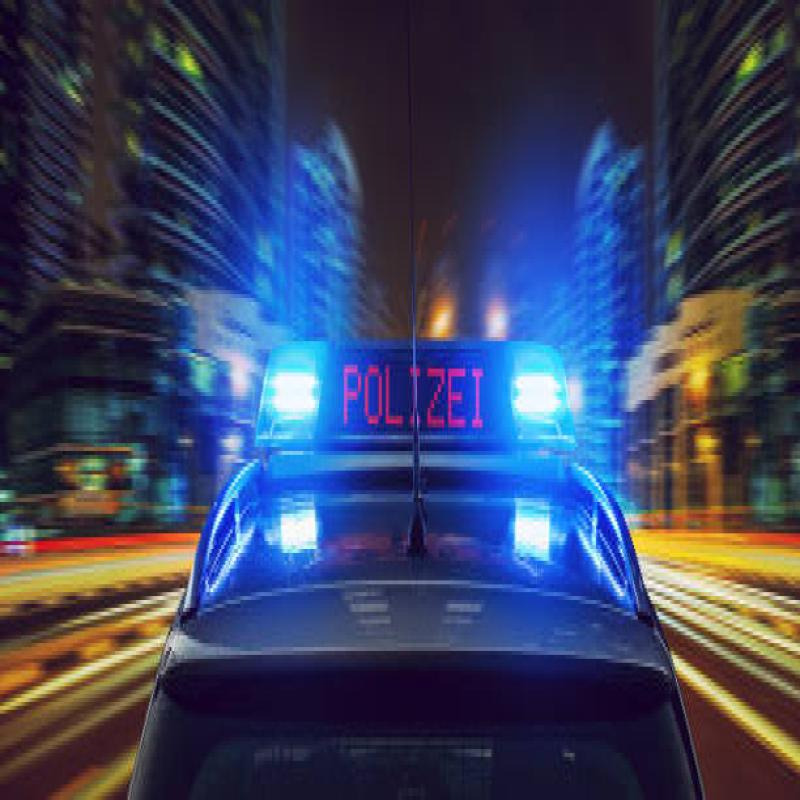AmbulanceSiren: (228, 300, 656, 474)
